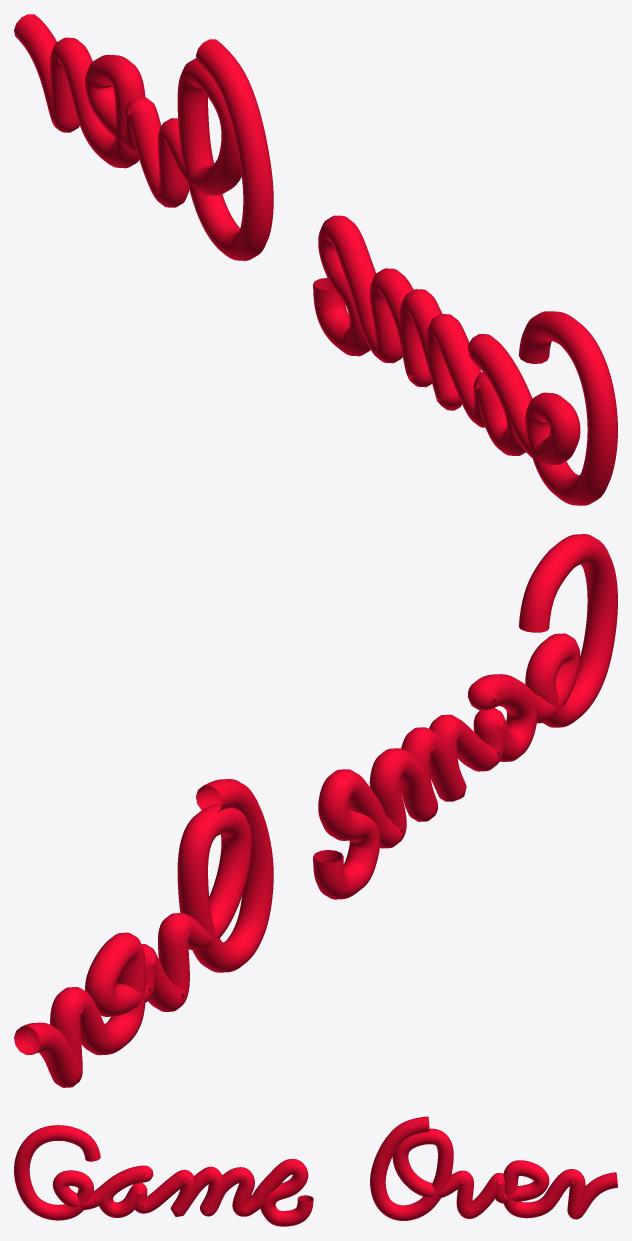
The model's file is GameOver.fbx.
3 renders of one model, top to bottom at view 1: azimuth 30°, elevation 25°; view 2: azimuth 150°, elevation 25°; view 3: azimuth 270°, elevation 25°, orthographic. The views are drawn at different scales.
Parts seen in each view (by area): view 1: NurbsPath, NurbsPath.001; view 2: NurbsPath, NurbsPath.001; view 3: NurbsPath, NurbsPath.001.
Boxes of the visible parts, left/top/right/bottom form: NurbsPath: left=313, top=215, right=617, bottom=505; NurbsPath.001: left=14, top=14, right=273, bottom=260; NurbsPath: left=313, top=534, right=617, bottom=899; NurbsPath.001: left=14, top=779, right=273, bottom=1087; NurbsPath: left=14, top=1125, right=313, bottom=1226; NurbsPath.001: left=370, top=1116, right=617, bottom=1220.
Bounding box in the file's own units: 20 × 152 × 767.
